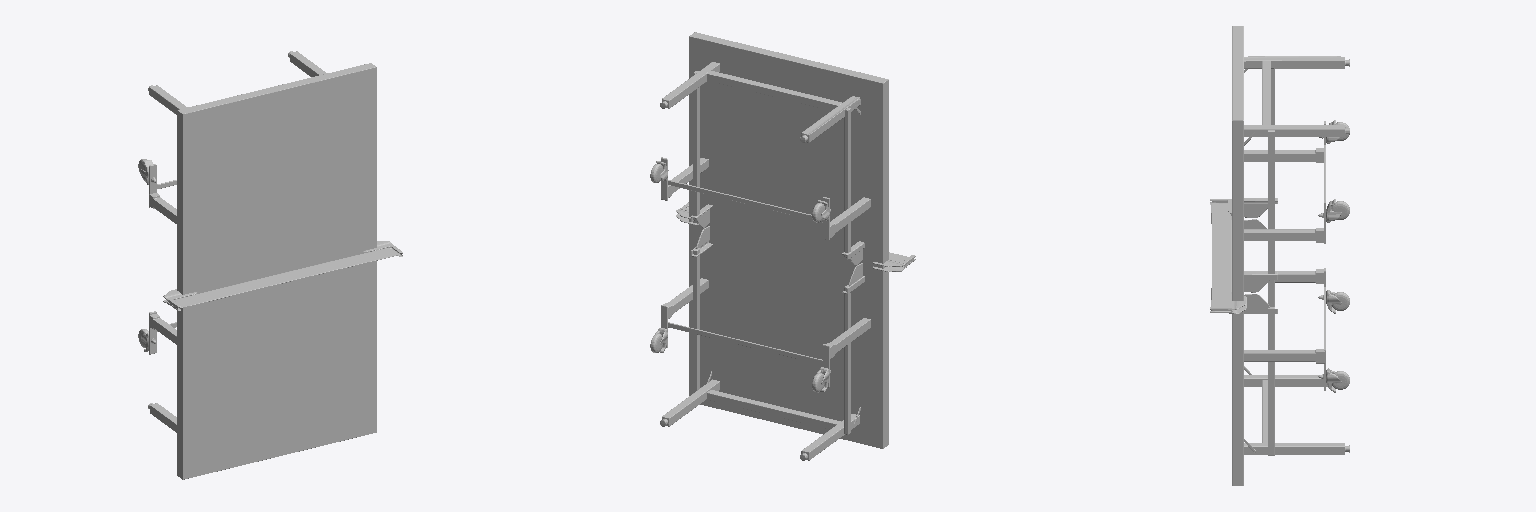
File: 10520_pingpongtable_L2.obj
3 renders of one model, left to right at view 1: azimuth 30°, elevation 25°; view 2: azimuth 150°, elevation 25°; view 3: azimuth 270°, elevation 25°, orthographic.
Visible parts, largest first — view 1: Rectangle004; view 2: Rectangle004; view 3: Rectangle004.
Boxes of the visible parts, x1,y1,x2,y2 form: Rectangle004: [138, 51, 402, 479]; Rectangle004: [650, 32, 915, 460]; Rectangle004: [1210, 26, 1349, 485].
Bounding box in the file's own units: 179 × 276 × 96.42.